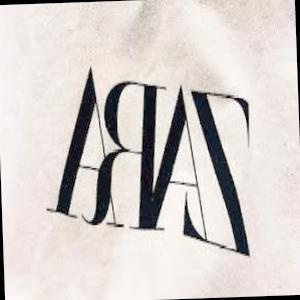zara: (240, 27, 281, 81)
